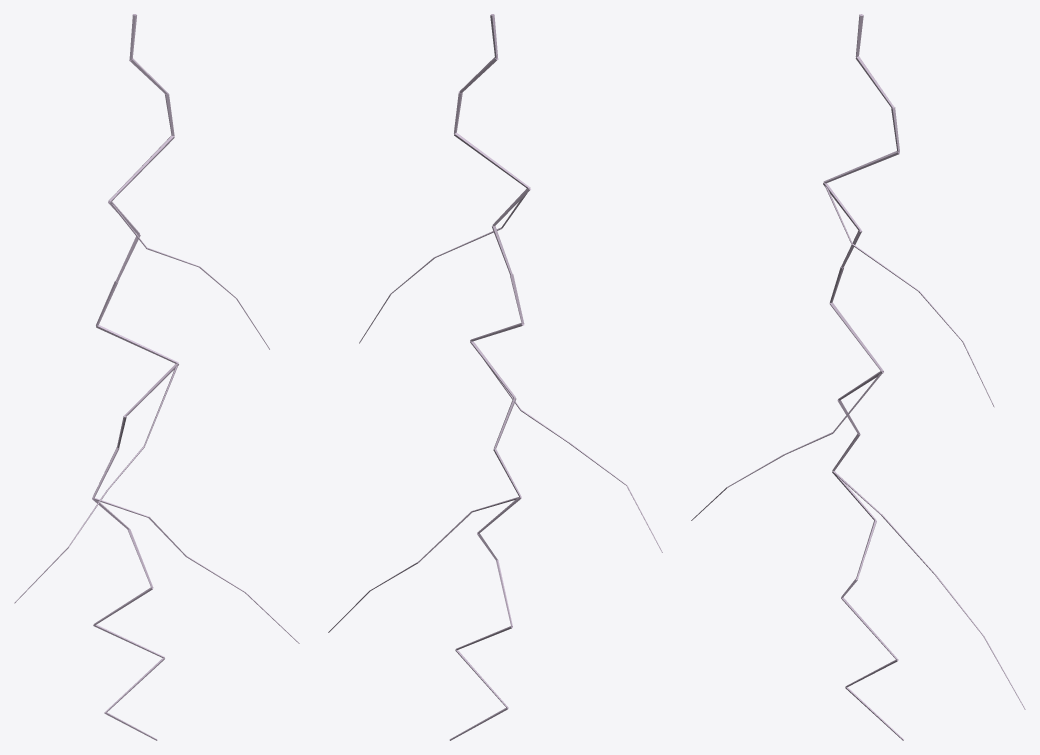
File: lightning42b_1.glb
3 renders of one model, left to right at view 1: azimuth 30°, elevation 25°; view 2: azimuth 150°, elevation 25°; view 3: azimuth 330°, elevation 25°, orthographic. The views are drawn at different scales.
Size of the model in its own units: 181 by 408 by 48.21.
